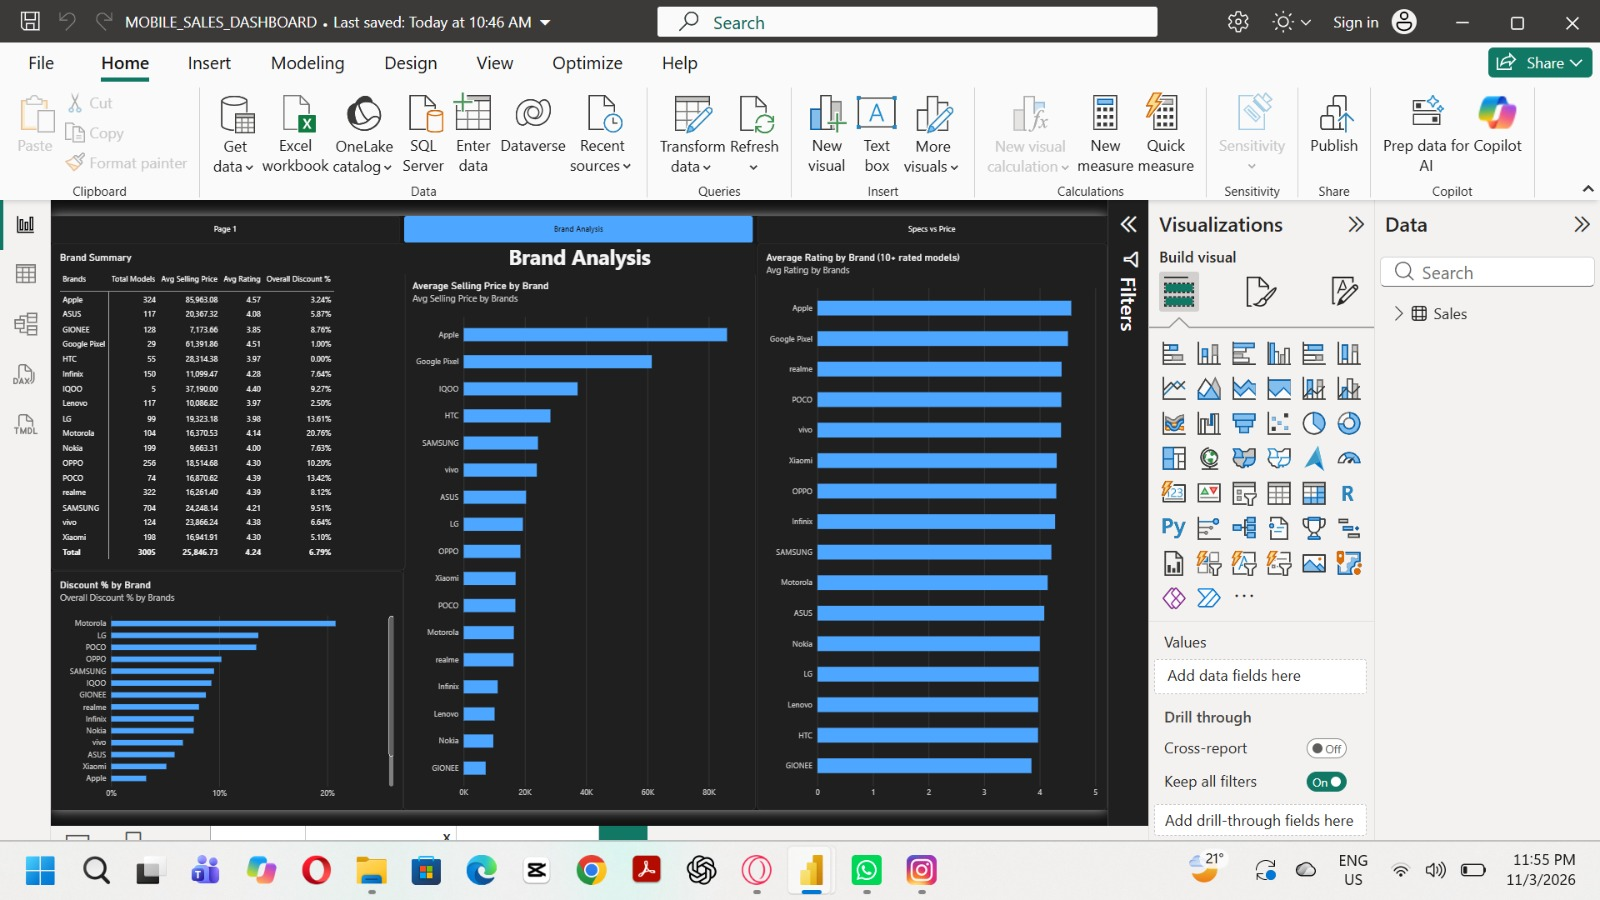

The dashboard page shown, as its layout file describes it:
{"tool":"powerbi","page":{"name":"Brand Analysis","canvas":[1920,1080],"ordinal":1},"visuals":[{"type":"clusteredBarChart","title":"Average Selling Price by Brand","fields":{"Category":["Sales.Brands"],"Y":["Sales.Avg Selling Price"]},"box":[12,132,620,466],"z":0},{"type":"clusteredBarChart","title":"Discount % by Brand","fields":{"Category":["Sales.Brands"],"Y":["Sales.Overall Discount %"]},"box":[12,610,620,458],"z":1000},{"type":"clusteredBarChart","title":"Average Rating by Brand (10+ rated models)","fields":{"Category":["Sales.Brands"],"Y":["Sales.Avg Rating"]},"box":[1296,132,612,936],"z":2000},{"type":"pivotTable","title":"Brand Summary","fields":{"Rows":["Sales.Brands"],"Values":["Sales.Total Models","Sales.Avg Selling Price","Sales.Avg Rating","Sales.Overall Discount %"]},"box":[644,132,640,936],"z":2001},{"type":"pageNavigator","box":[0,0,1920,50],"z":2002},{"type":"textbox","box":[12,58,1896,64],"z":9000}]}

Visuals, with their boxes on the page's 1920x1080 design canvas (x1, y1, x2, y2). These are canvas units, not pixel positions in the 1600x900 screenshot, which may show the page scaled, cropped or inside an application window:
"Average Selling Price by Brand" clusteredBarChart: region(12, 132, 632, 598)
"Discount % by Brand" clusteredBarChart: region(12, 610, 632, 1068)
"Average Rating by Brand (10+ rated models)" clusteredBarChart: region(1296, 132, 1908, 1068)
"Brand Summary" pivotTable: region(644, 132, 1284, 1068)
pageNavigator: region(0, 0, 1920, 50)
textbox: region(12, 58, 1908, 122)
